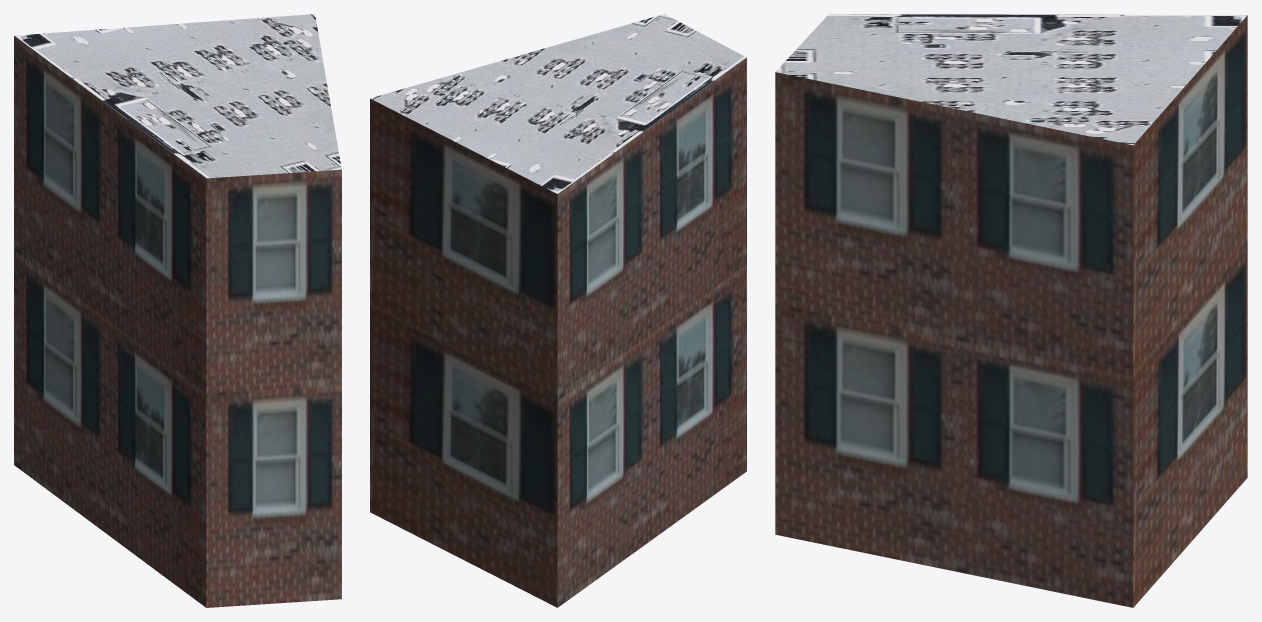
Rendered from ResTex__3047.fbx.
3 renders of one model, left to right at view 1: azimuth 30°, elevation 25°; view 2: azimuth 150°, elevation 25°; view 3: azimuth 270°, elevation 25°, orthographic. The views are drawn at different scales.
Visible parts, largest first — view 1: CityEngineMaterial_14_m, CityEngineMaterial_m; view 2: CityEngineMaterial_14_m, CityEngineMaterial_m; view 3: CityEngineMaterial_14_m, CityEngineMaterial_m.
Boxes of the visible parts, x1,y1,x2,y2 form: CityEngineMaterial_14_m: (14, 36, 341, 607); CityEngineMaterial_m: (14, 14, 341, 178); CityEngineMaterial_14_m: (370, 58, 746, 607); CityEngineMaterial_m: (370, 14, 746, 193); CityEngineMaterial_14_m: (775, 15, 1247, 607); CityEngineMaterial_m: (776, 14, 1247, 145).
Size of the model in its own units: 3.65 by 6 by 5.55.
Materials: 2 (2 with a texture image).
